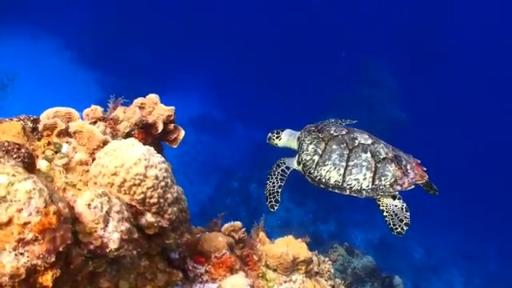Fish: (265, 118, 437, 234)
